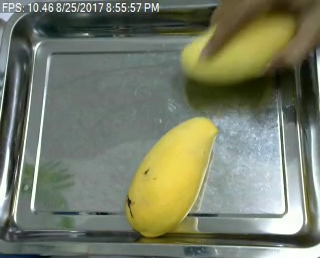Mango: (123, 115, 220, 238), (180, 12, 297, 86)
